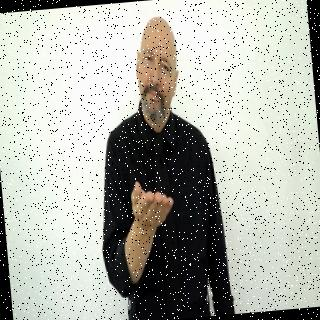ThankYou: (82, 10, 235, 320)
